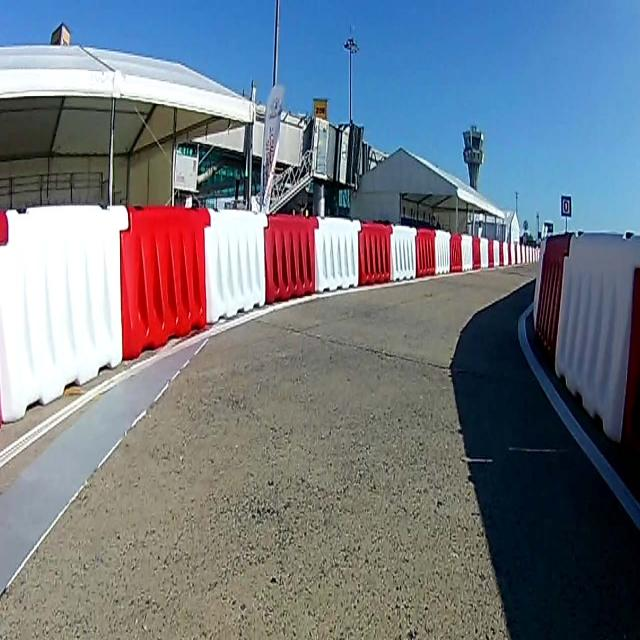durak: (559, 192, 571, 215)
